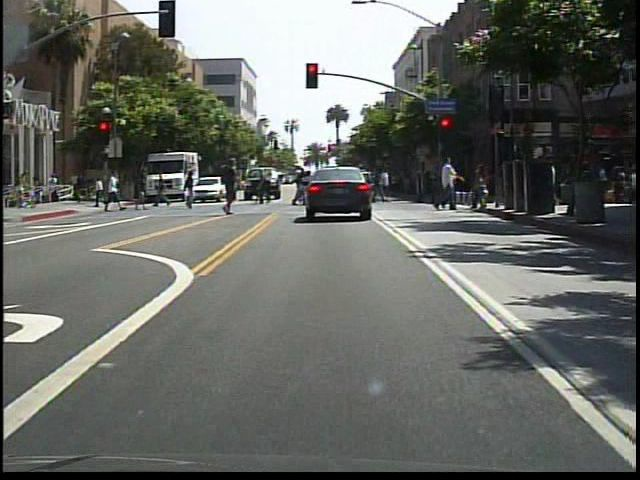person: (433, 155, 466, 213), (218, 157, 246, 223), (102, 170, 126, 220), (345, 166, 368, 217), (181, 168, 203, 213), (153, 170, 171, 211), (256, 169, 273, 207)
